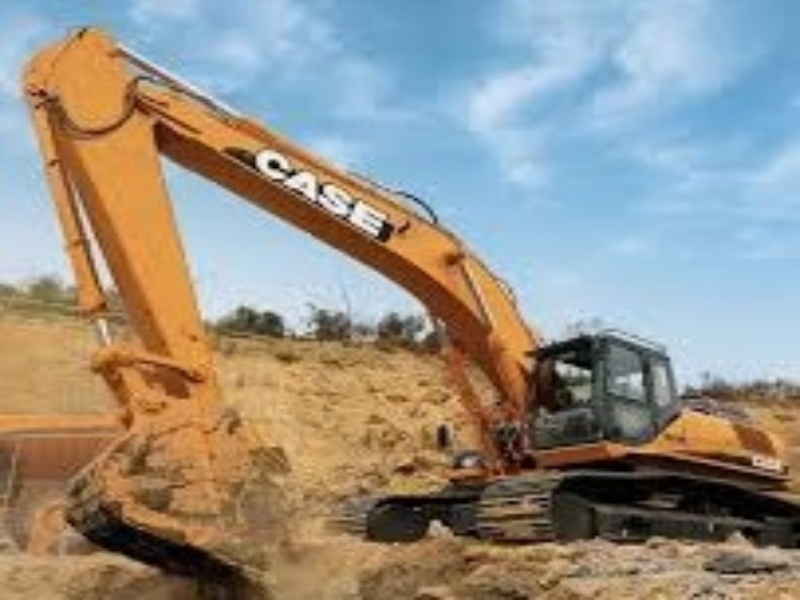wajueji: (324, 214, 800, 573)
